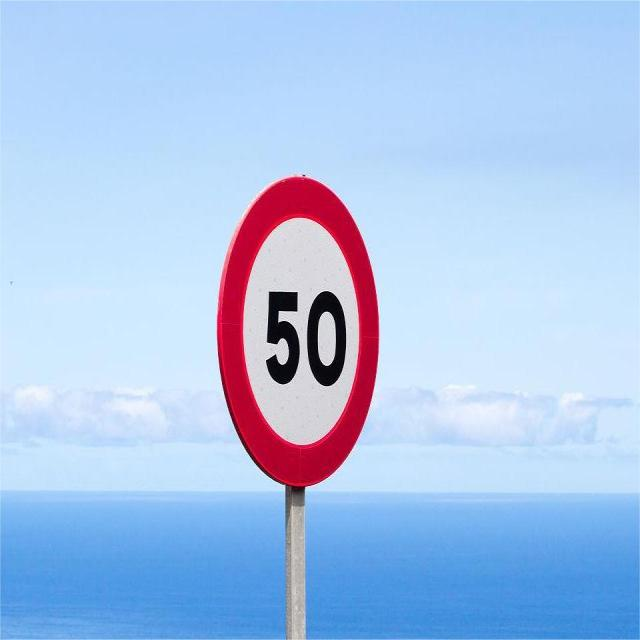speed limit 50: (218, 177, 380, 490)
